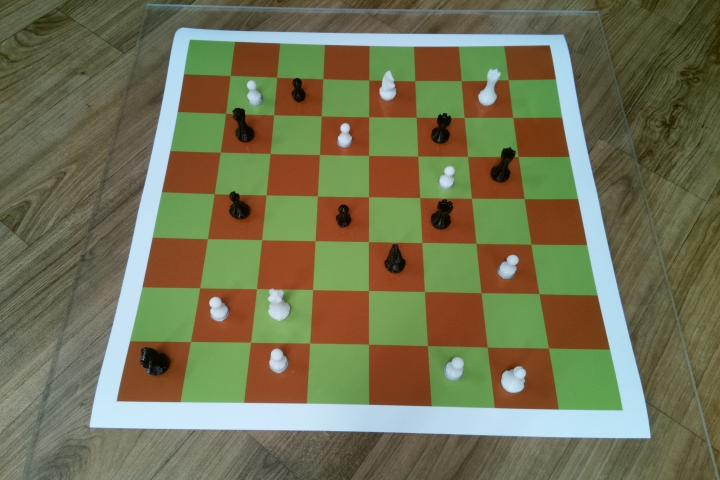chessboard-detect: (117, 39, 624, 410)
